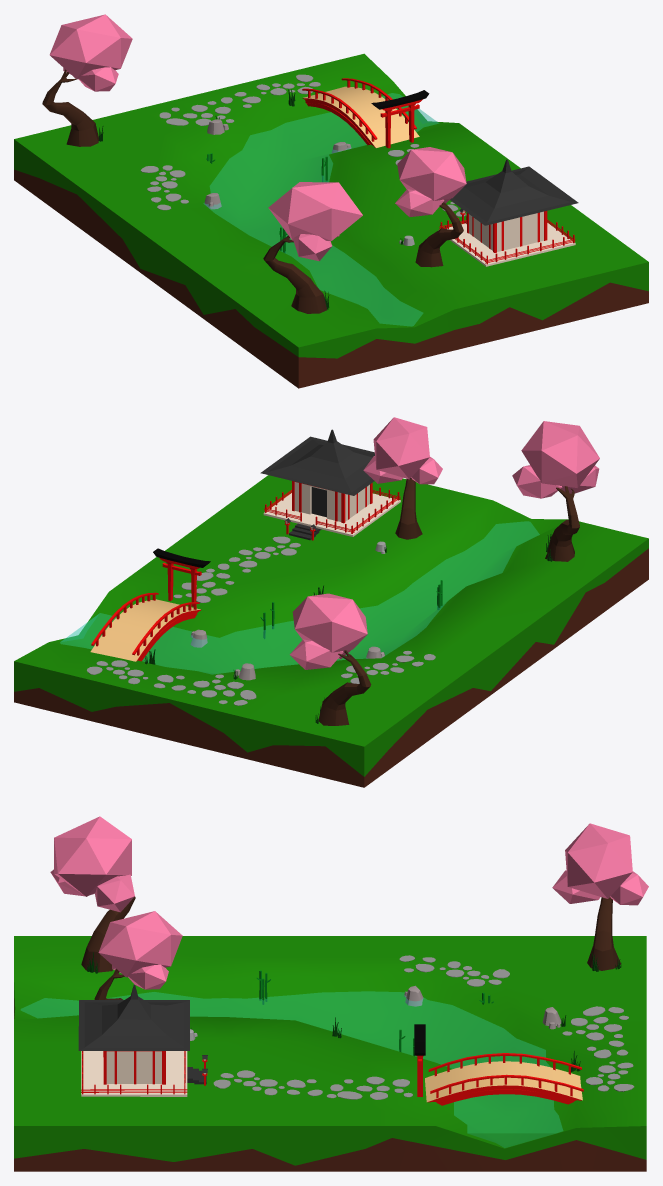
3 renders of one model, top to bottom at view 1: azimuth 30°, elevation 25°; view 2: azimuth 150°, elevation 25°; view 3: azimuth 270°, elevation 25°, orthographic. The views are drawn at different scales.
Visible parts, largest first — view 1: pCube16, pPlane3, pCube10, pPlatonic2, pPlatonic4, pPlatonic3, pasted__group16_pasted__pCube3, pasted__pCube12, pCube20, pasted__group91_pasted__group82_pasted__pasted__group81_past, pCube22, pCube21 (+4 smaller); view 2: pCube16, pPlane3, pCube10, pPlatonic2, pPlatonic4, pasted__group16_pasted__pCube3, pPlatonic3, pasted__pCube12, pasted__group91_pasted__group82_pasted__pasted__group81_past, group91_pasted__group82_pasted__pasted__group81_pasted__past, pCube22, pCube20 (+5 smaller); view 3: pCube16, pPlane3, pCube10, pasted__group16_pasted__pCube3, pPlatonic2, pPlatonic4, pPlatonic3, pasted__pCube12, group91_pasted__group82_pasted__pasted__group81_pasted__past, pasted__group91_pasted__group82_pasted__pasted__group81_past, pCube22, pCube20 (+4 smaller).
Boxes of the visible parts, x1,y1,x2,y2 form: pCube16: (14,53,648,388); pPlane3: (204,93,439,326); pCube10: (450,159,578,251); pPlatonic2: (268,182,362,261); pPlatonic4: (49,14,132,91); pPlatonic3: (395,147,466,217); pasted__group16_pasted__pCube3: (302,78,419,147); pasted__pCube12: (447,223,575,266); pCube20: (263,235,326,313); pasted__group91_pasted__group82_pasted__pasted__group81_past: (159,74,320,125); pCube22: (42,69,98,146); pCube21: (415,202,463,267); pCube16: (14,475,648,787); pPlane3: (60,521,539,674); pCube10: (260,429,374,521); pPlatonic2: (512,421,599,498); pPlatonic4: (289,593,367,669); pasted__group16_pasted__pCube3: (90,592,201,661); pPlatonic3: (363,417,442,484); pasted__pCube12: (263,493,400,536); pasted__group91_pasted__group82_pasted__pasted__group81_past: (87,660,256,705); group91_pasted__group82_pasted__pasted__group81_pasted__past: (173,536,300,602); pCube22: (318,650,371,725); pCube20: (545,486,579,561); pCube16: (14,936,646,1171); pPlane3: (21,991,562,1147); pCube10: (78,984,189,1083); pasted__group16_pasted__pCube3: (425,1053,583,1105); pPlatonic2: (50,816,134,912); pPlatonic4: (552,823,648,905); pPlatonic3: (98,911,182,989); pasted__pCube12: (81,1051,187,1096); group91_pasted__group82_pasted__pasted__group81_pasted__past: (213,1070,412,1099); pasted__group91_pasted__group82_pasted__pasted__group81_past: (562,1006,634,1091); pCube22: (587,897,620,970); pCube20: (81,896,135,972).
Size of the model in its own units: 151 by 67.66 by 213.
